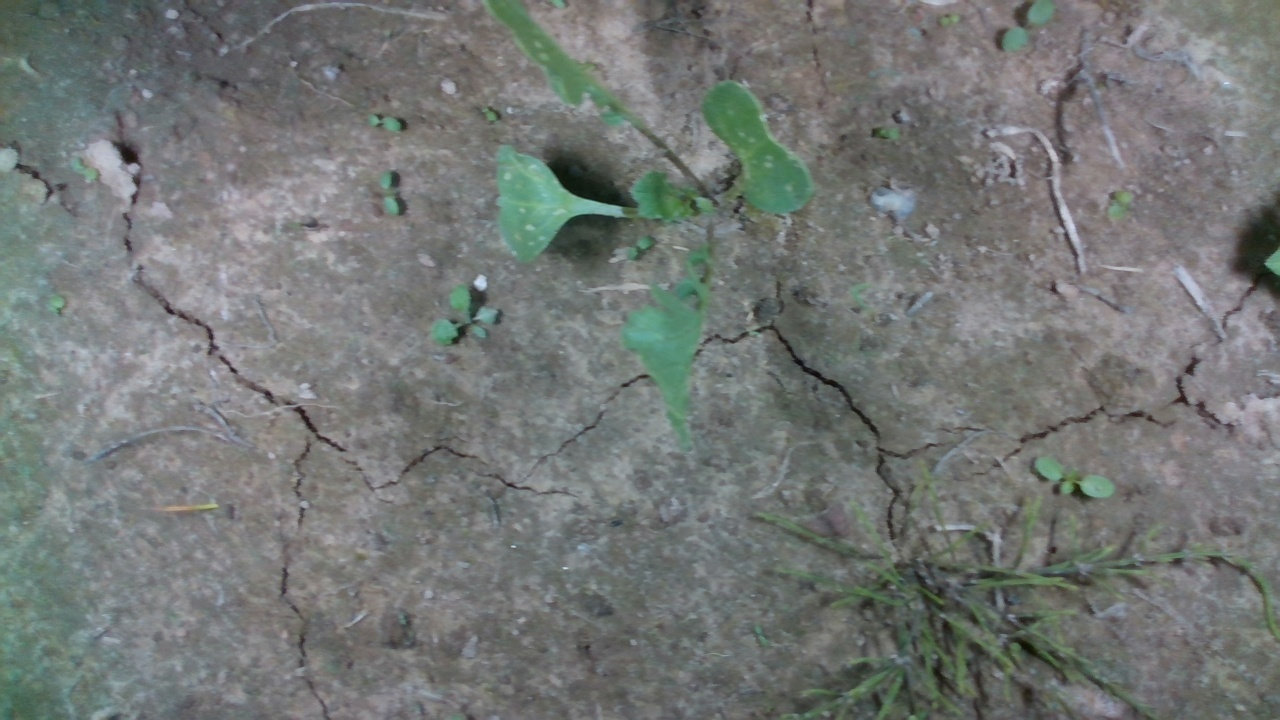weed: (1029, 450, 1127, 508), (429, 281, 500, 347), (364, 166, 397, 223), (1104, 182, 1131, 235), (367, 108, 403, 136), (470, 99, 502, 126)
